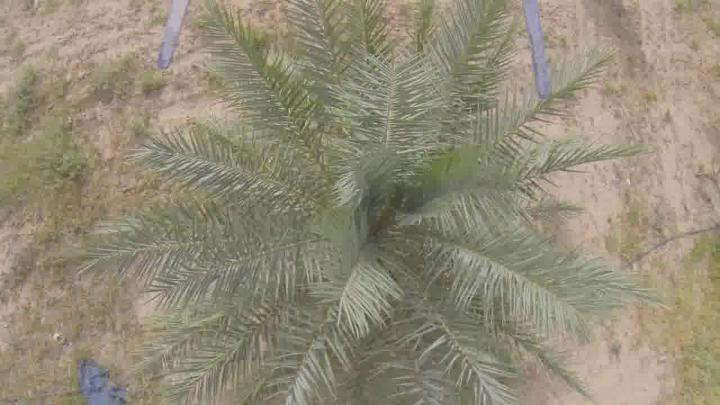Date-Palm-Crown: (202, 59, 514, 357)
